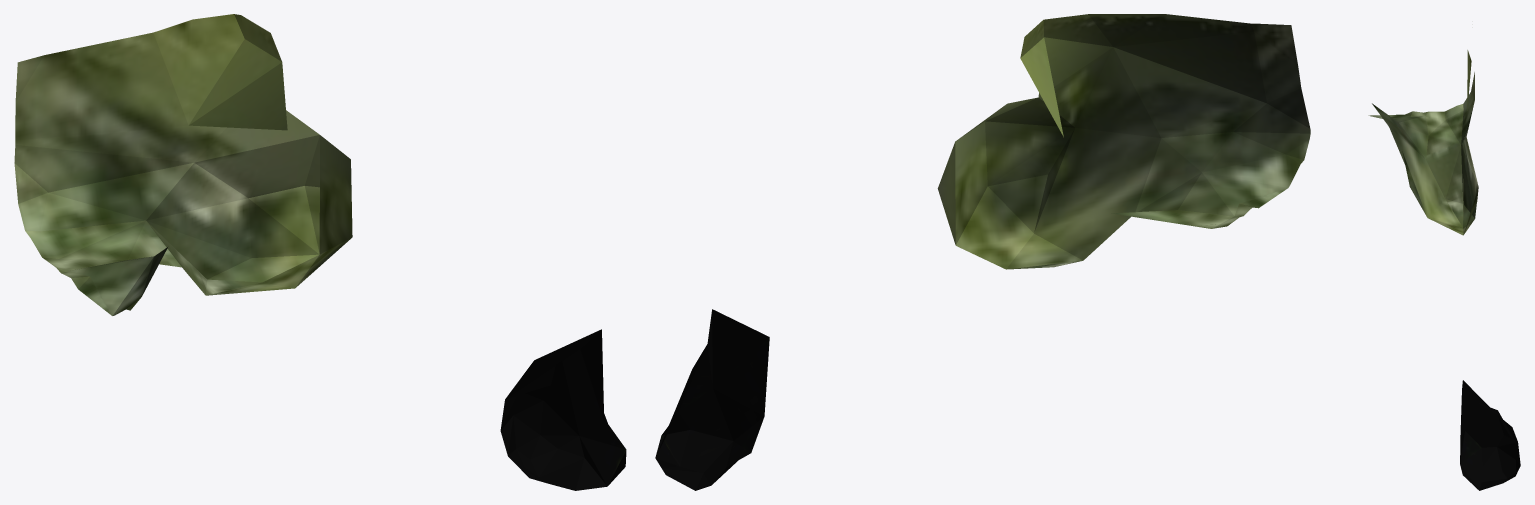
3 views of the same model, side by side, from view 1: azimuth 30°, elevation 25°; view 2: azimuth 150°, elevation 25°; view 3: azimuth 270°, elevation 25° (orthographic). The views are drawn at different scales.
Size of the model in its own units: 3.47 by 3.09 by 1.61.
1 material, 1 textured.
